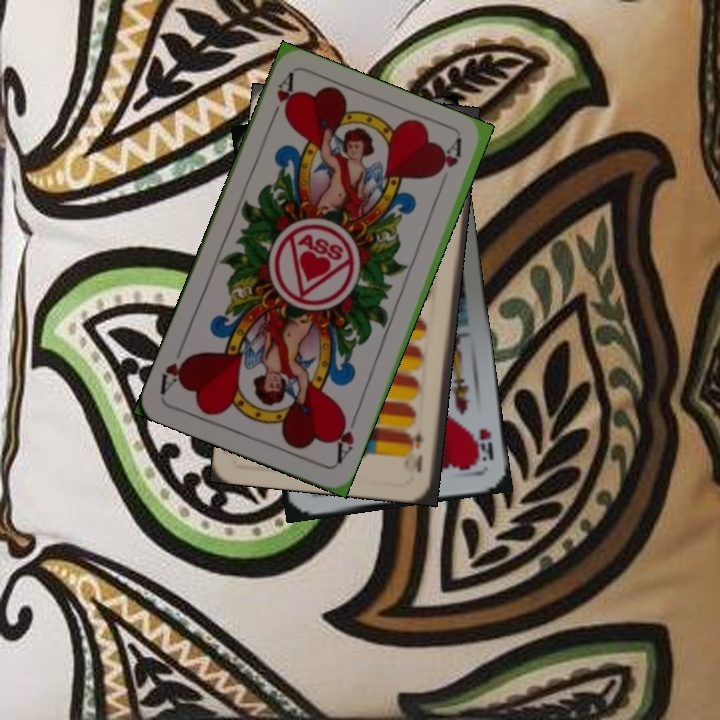E10: (407, 425, 427, 475)
HA: (266, 70, 298, 128), (330, 409, 359, 467)
HK: (469, 425, 496, 469)
